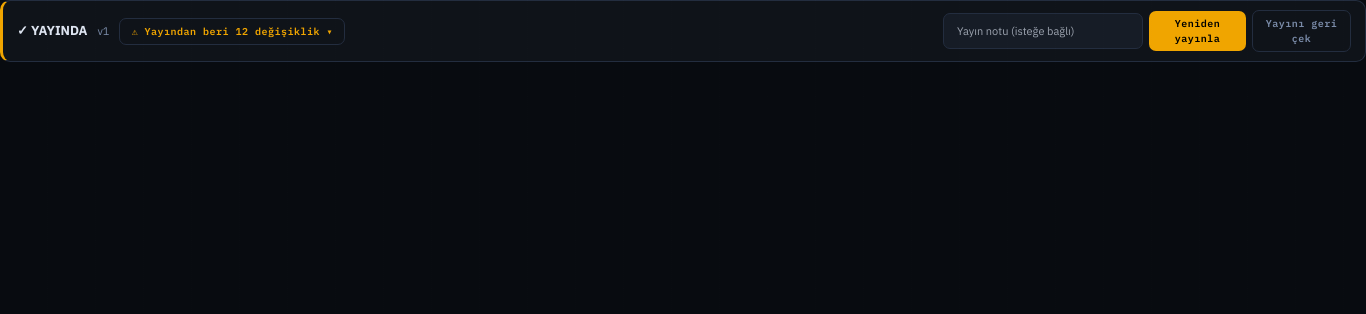
Test: Yayın durumu şeridi › uzun listede kırpılanı açıkça bildirir
Click the button "⚠ Yayından beri 12 değişiklik ▾" at (232, 31), box [120,18,345,44]
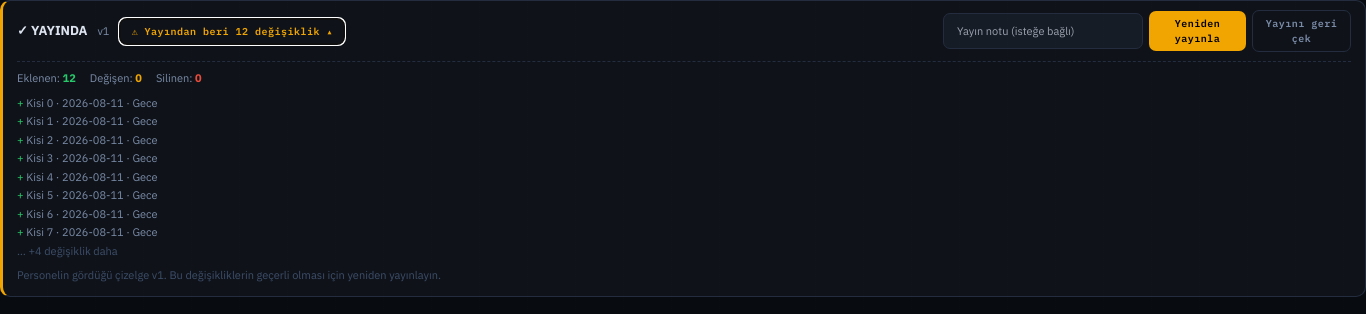
Expected: the text "… +4 değişiklik daha" is shown, [17,244,118,258]
